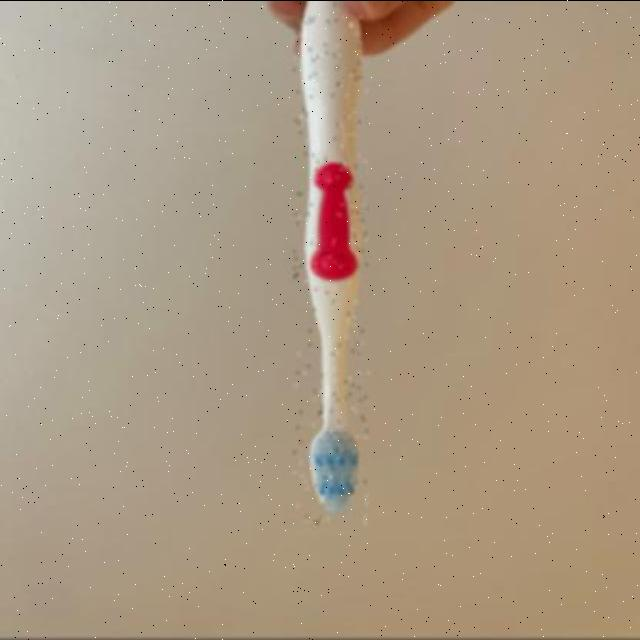toothbrush: (294, 0, 370, 524)
